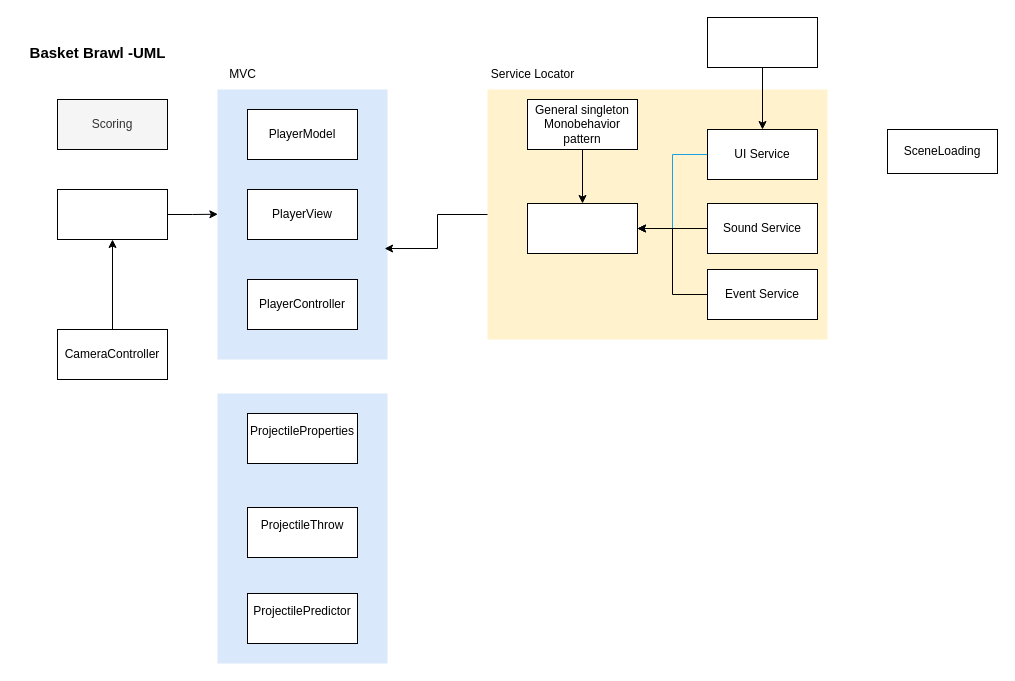
The diagram is 1015 pixels wide and 681 high, and some of its shapes have lost their labels. Each missing label, with the centre of its shape:
"GameMode" goes at [762,42].
"GameService <<service Locator>>" goes at [582,228].
"Player" goes at [112,214].
